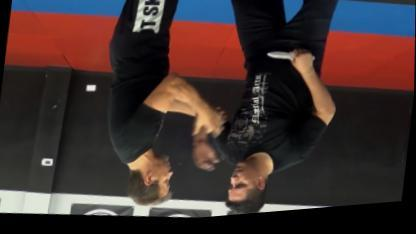knife: (264, 49, 317, 71)
